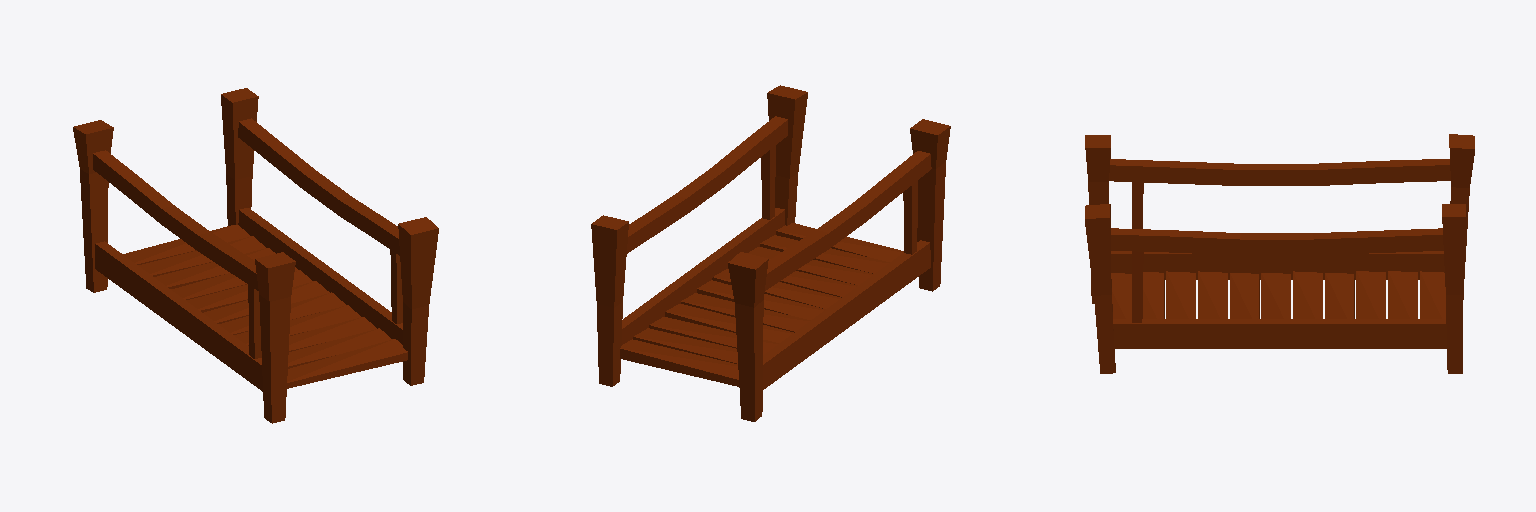
Rendered from bridge2.obj.
3 renders of one model, left to right at view 1: azimuth 30°, elevation 25°; view 2: azimuth 150°, elevation 25°; view 3: azimuth 270°, elevation 25°, orthographic.
Bounding box in the file's own units: 2.15 × 1.93 × 4.25.